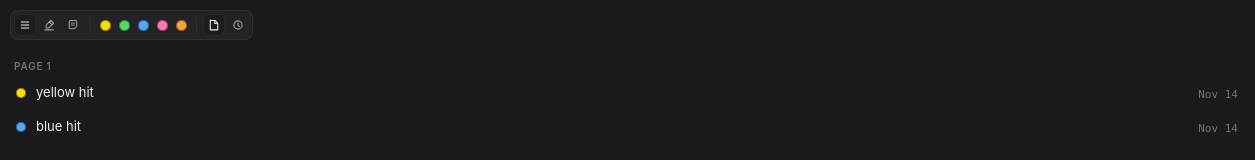
Test: MarksTabContent › filters by color
What coordinates should you click on to do the following:
click the button named "Filter yellow highlights"
I would click on:
 (106, 25)
Its box is [100,20,111,30].
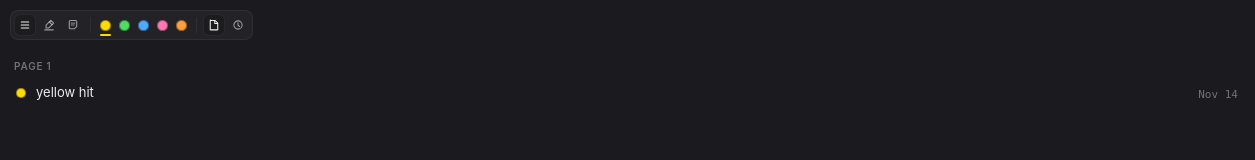
Expected: the text "yellow hit" is shown, [36,84,94,100]
Result: the button "blue hit" is gone
